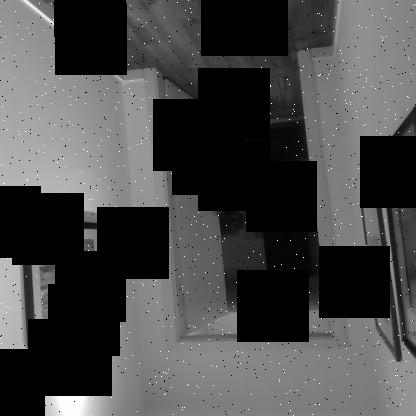Porte: (145, 49, 350, 350)
